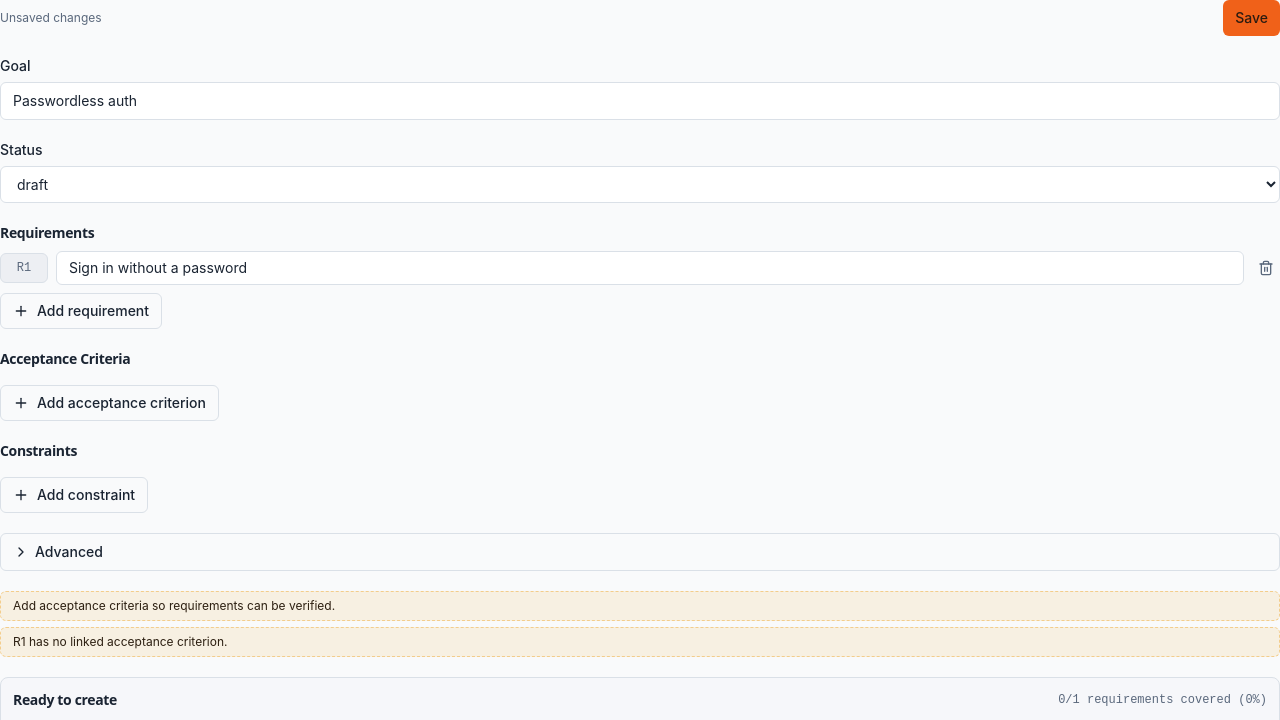
GuidedMode › defaults a new acceptance criterion to the Given/When/Then style
Click the button with test id "guided-add-acceptance-criterion".
click(110, 403)  # box [0,385,219,421]
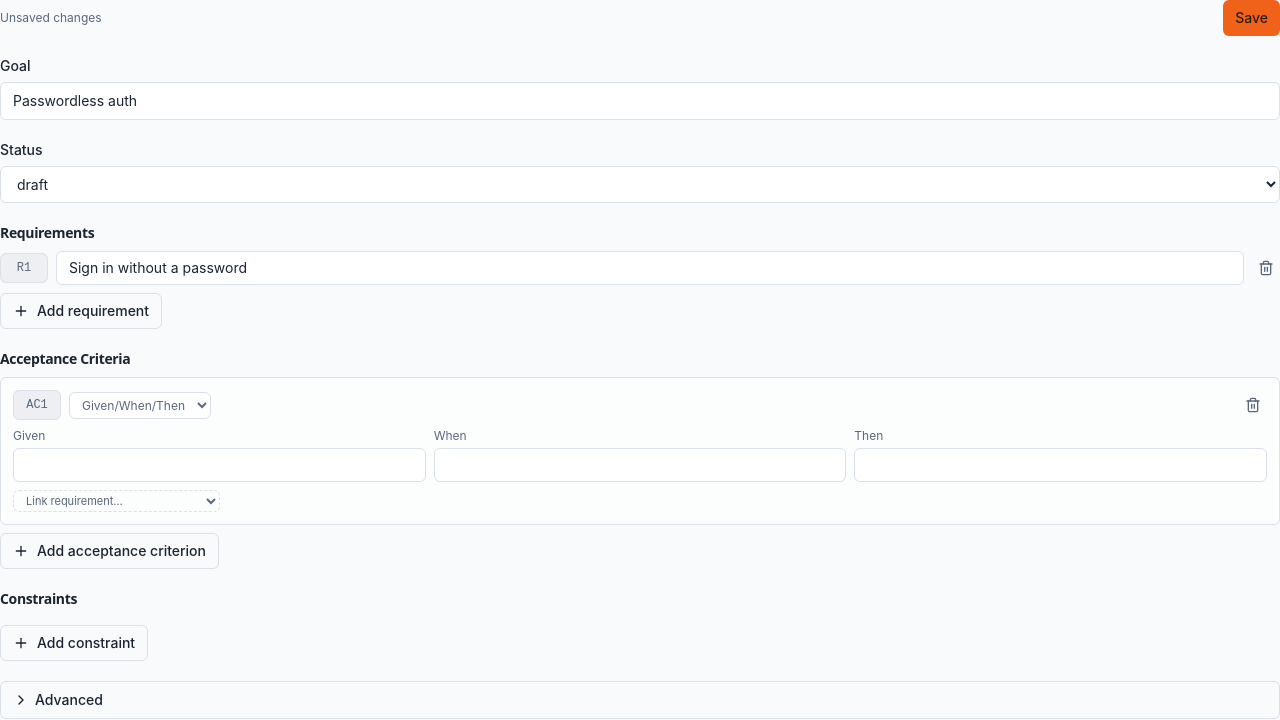
Result: the dropdown with test id "ac-style-0" shows "Given/When/Then" at [69,392,211,418]
Result: the field named "AC1 given" is shown at [13,448,426,482]
